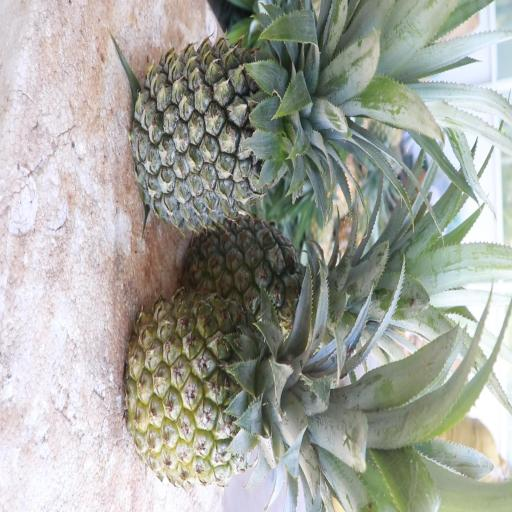------------------------------: (118, 286, 354, 500), (176, 208, 375, 360)
